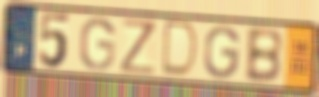5: (37, 12, 74, 71)
B: (243, 26, 285, 86)
D: (159, 19, 201, 81)
G: (202, 24, 242, 81), (77, 16, 117, 72)
Z: (120, 17, 158, 77)
